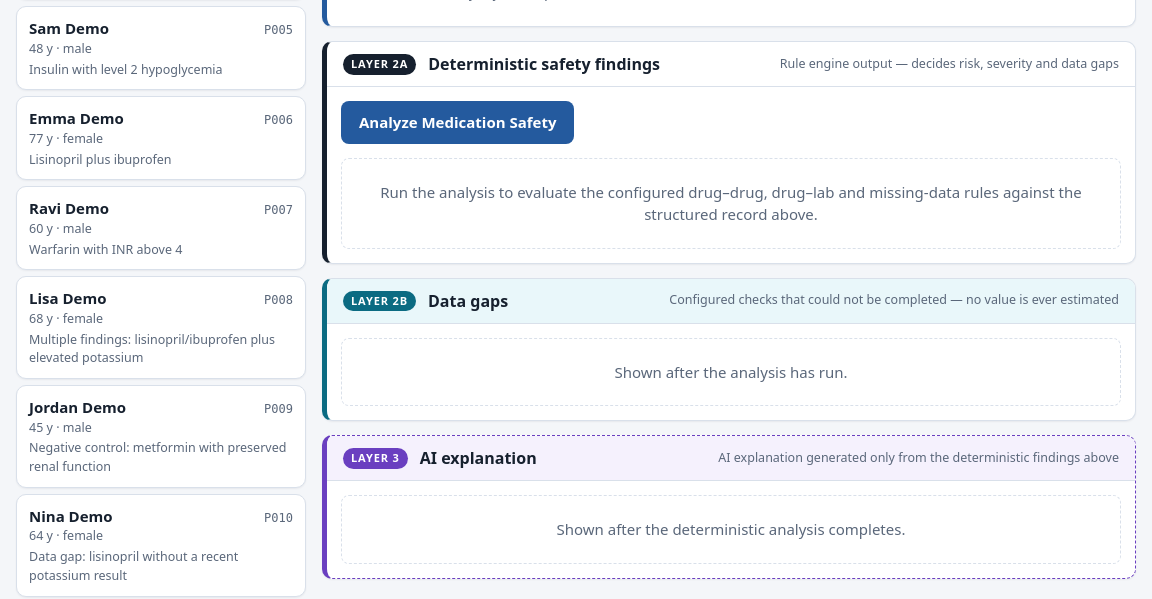
Test: analysis › P010: data gap in its own panel, NEEDS DATA status, no fabricated potassium
(page scrolled)
Click the button "Nina Demo" at (161, 545), box [16,494,306,597]
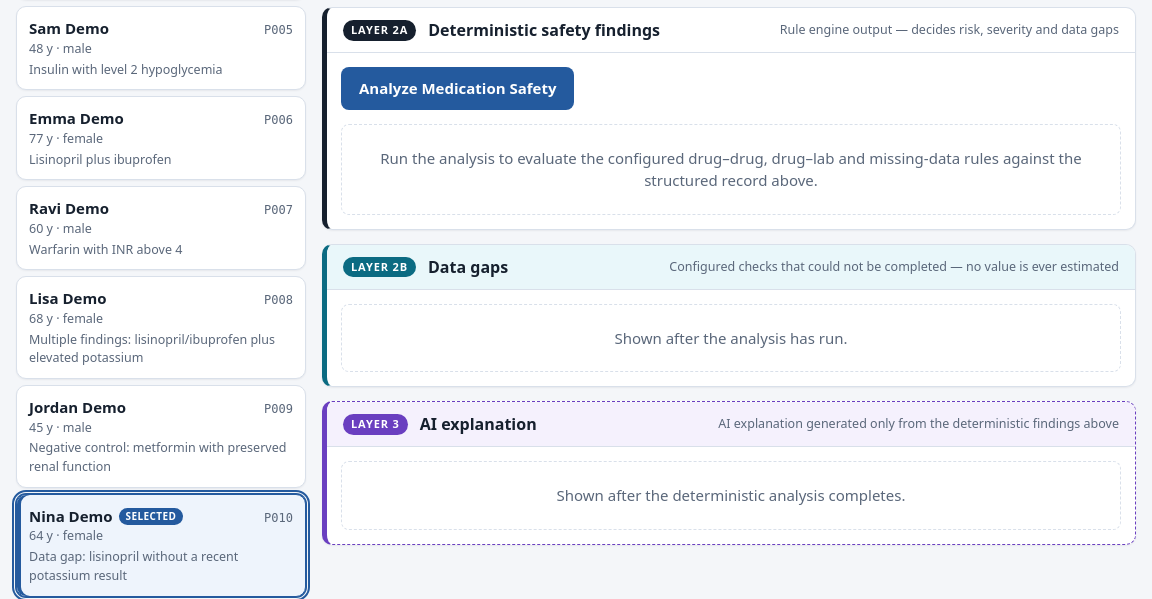
Click the button "Analyze Medication Safety" at (458, 89), box [341,67,574,110]
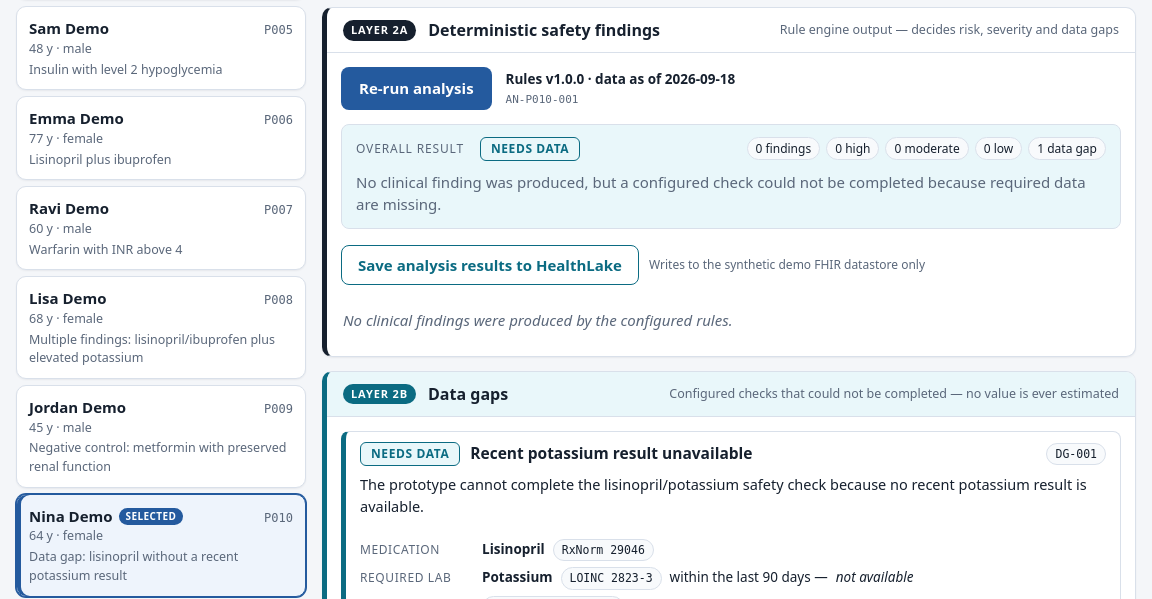
Now the element named "Data gap DG-001" shows "NEEDS DATA", box [371,445,449,462]
Now the element named "Data gap DG-001" shows "not available", box [836,568,913,586]
Now the text "0 findings" is shown, box [746,137,820,160]
